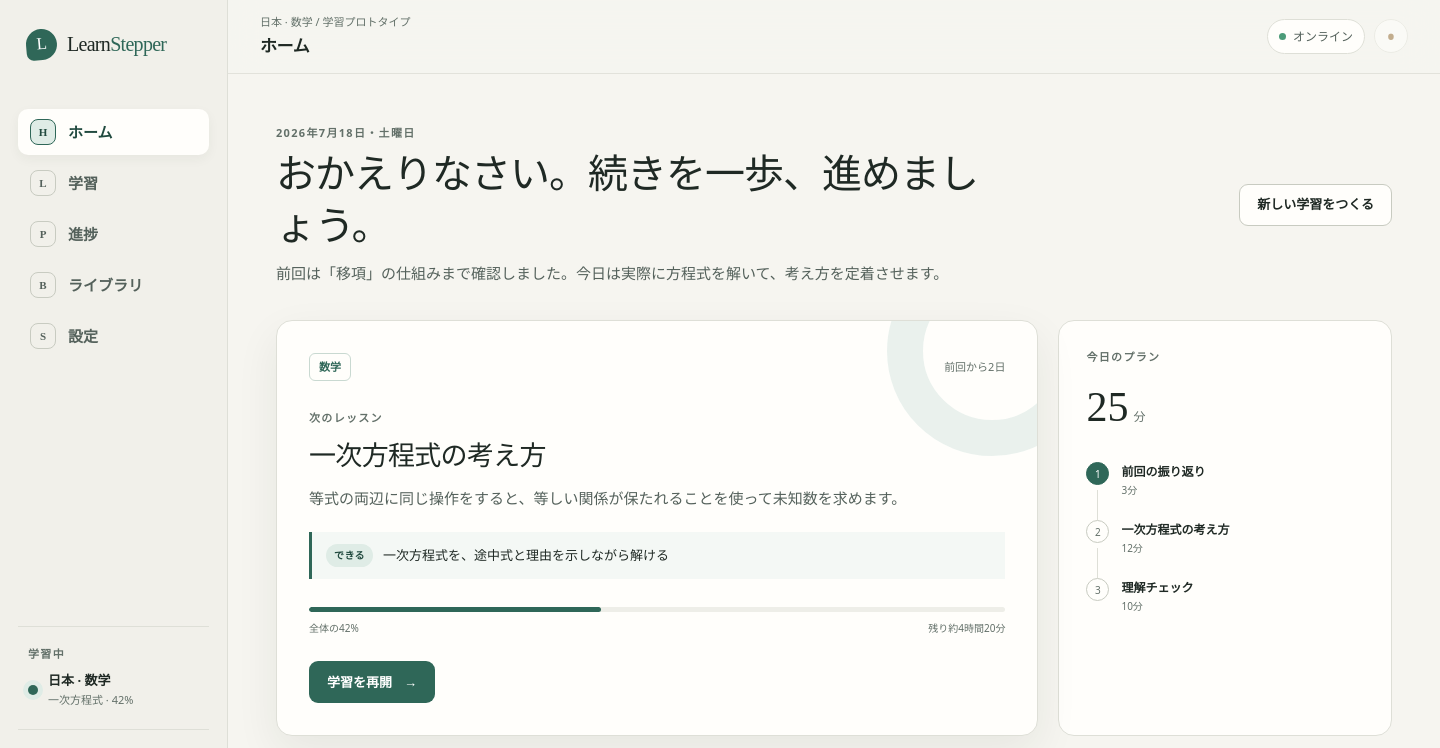
it: LearnStepper prototype journeys › does not unlock remediation return for an incorrect reason
Click the button "学習を再開 →" at (372, 682), box [309,662,435,704]
(page scrolled)
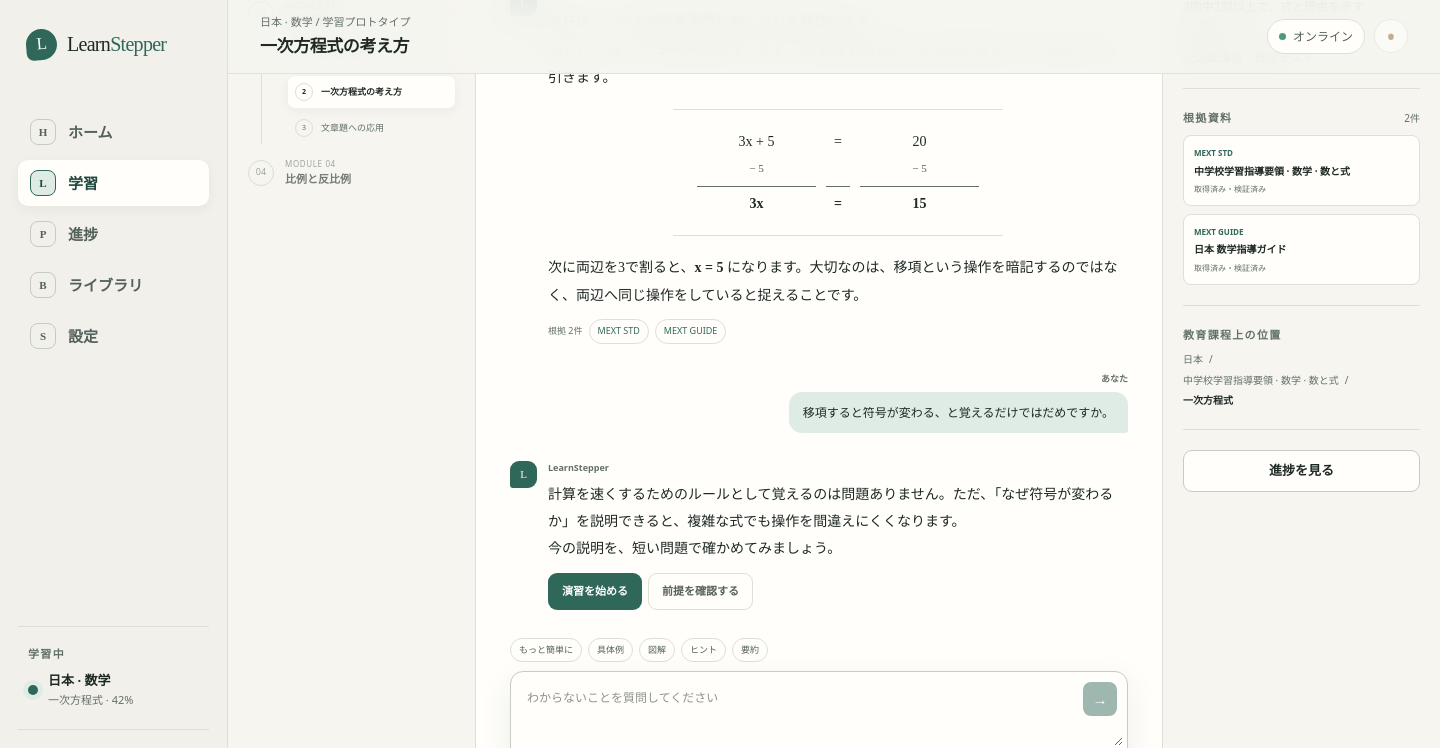
Click the button "前提を確認する" at (700, 591), box [648,572,753,610]
(page scrolled)
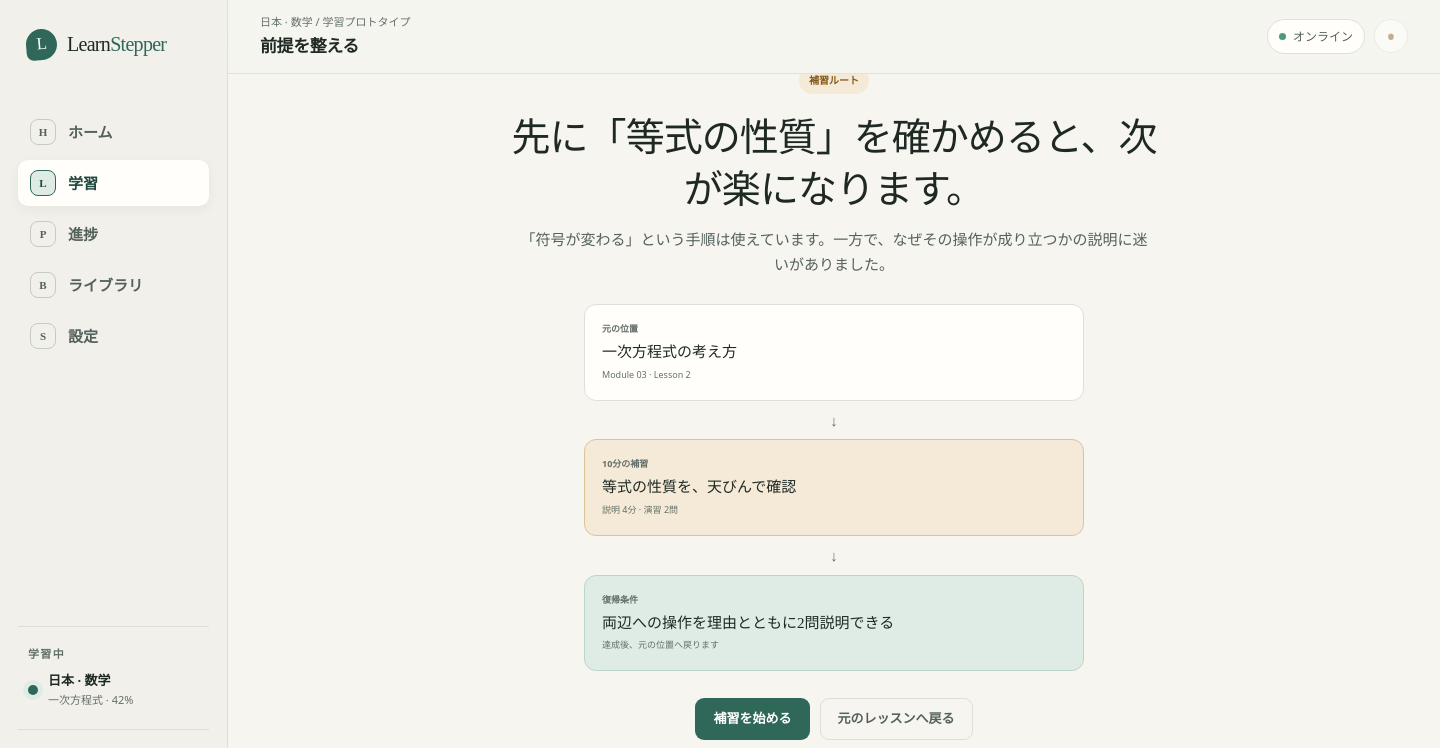
Click the button "補習を始める" at (752, 719), box [696,698,810,740]
(page scrolled)
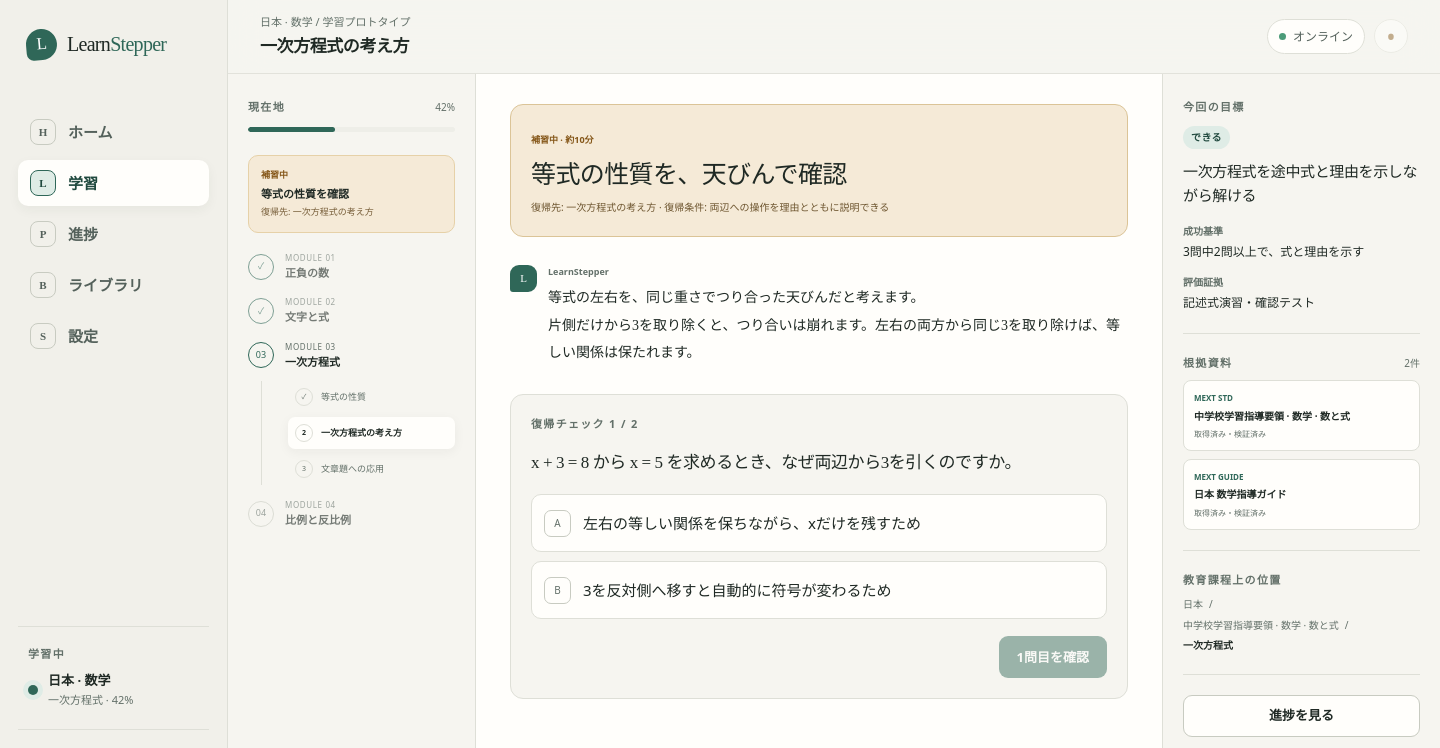
Click the button "B 3を反対側へ移すと自動的に符号が変わるため" at (819, 590), box [531,561,1107,619]
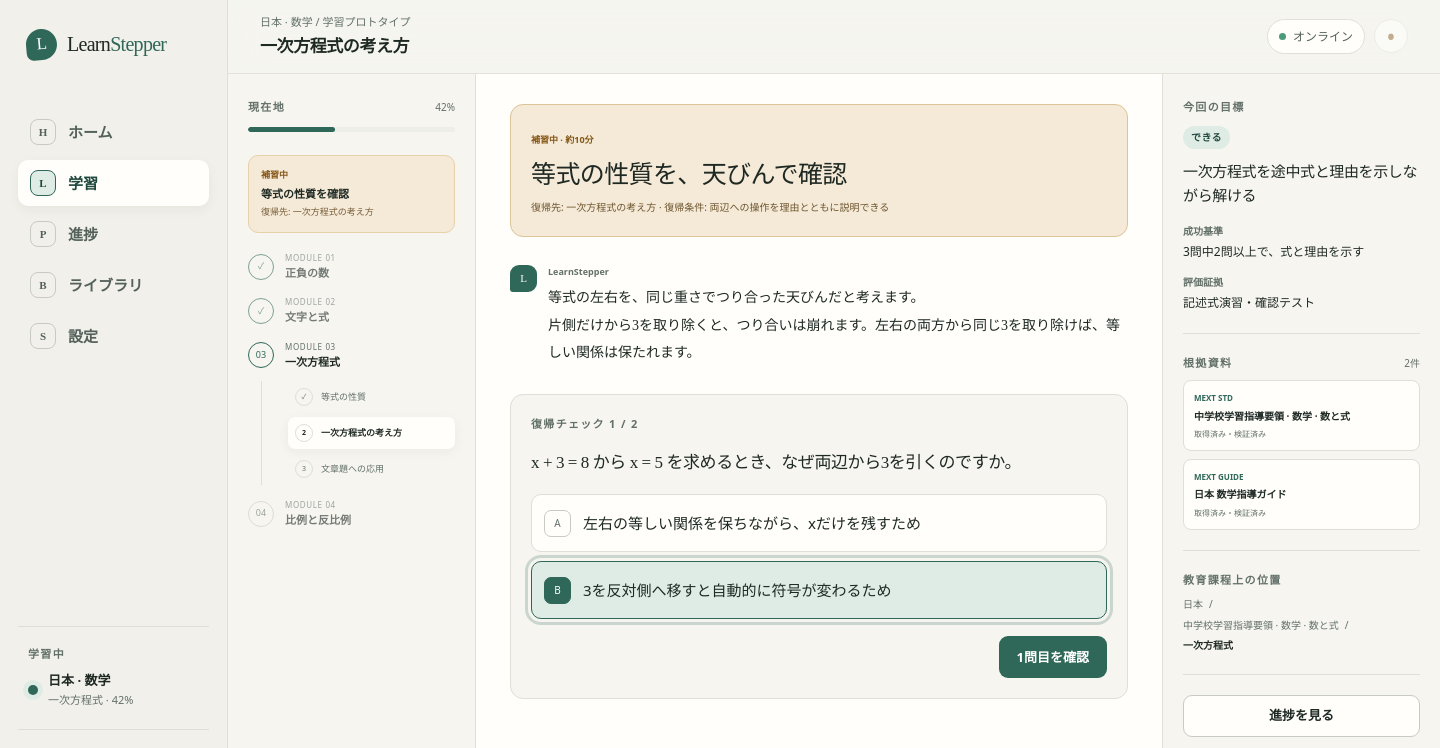
Click the button "1問目を確認" at (1053, 657), box [999,636,1107,678]
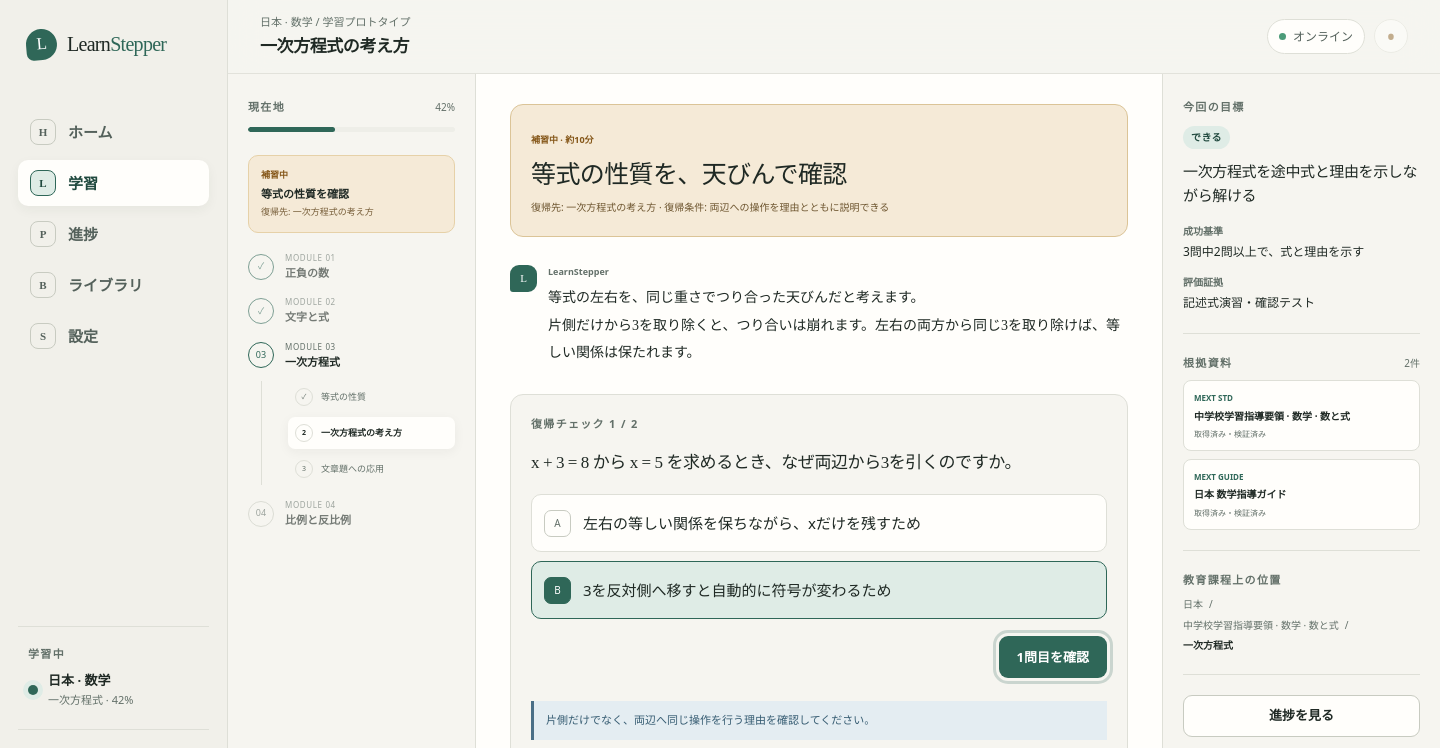
Check: the button "元のレッスンへ戻る" is not shown
Check: the text "片側だけでなく、両辺へ同じ操作を行う理由を確認してください。" is shown, box [546,712,875,727]
